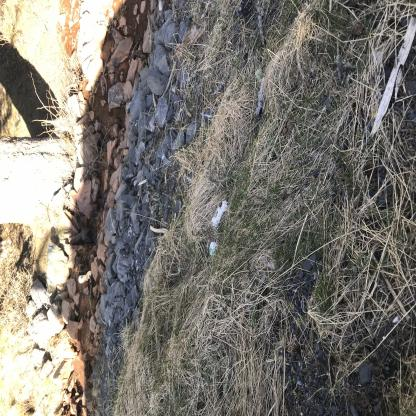trash: (138, 280, 164, 307), (118, 277, 134, 292)
